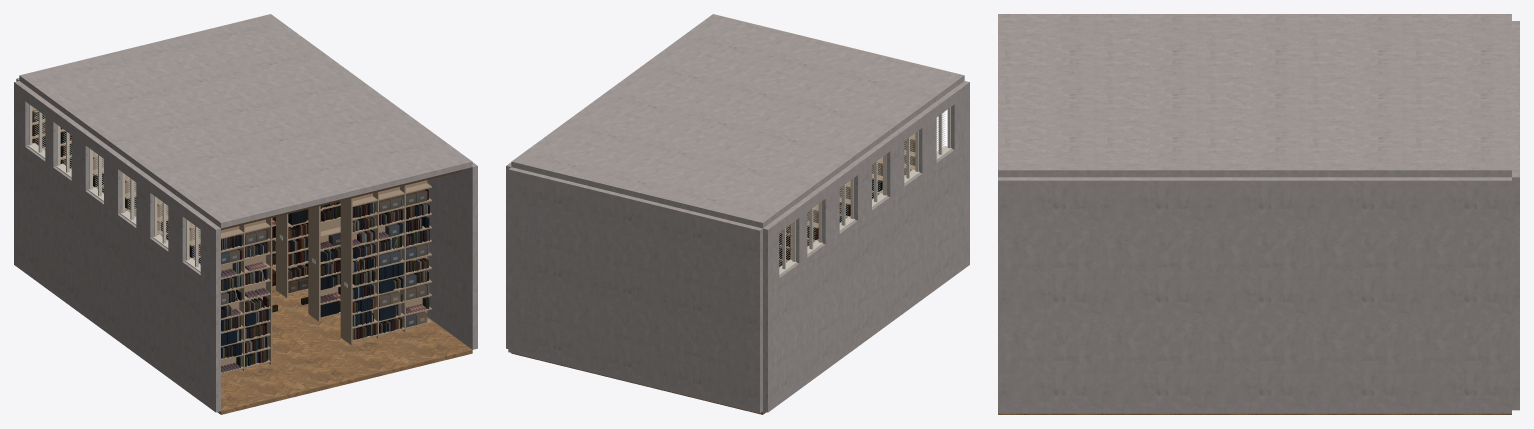
The model's file is archive.glb.
3 views of the same model, side by side, from view 1: azimuth 30°, elevation 25°; view 2: azimuth 150°, elevation 25°; view 3: azimuth 270°, elevation 25° (orthographic). The views are drawn at different scales.
Visible parts, largest first — view 1: Archive_shell, Archive_books; view 2: Archive_shell, Archive_books; view 3: Archive_shell.
Boxes of the visible parts, x1,y1,x2,y2 form: Archive_shell: (14,14,477,414); Archive_books: (32,110,429,372); Archive_shell: (506,14,969,414); Archive_books: (779,174,905,266); Archive_shell: (998,14,1519,414).
Size of the model in its own units: 7.5 by 5.25 by 10.15.
47 materials, 18 textured.
